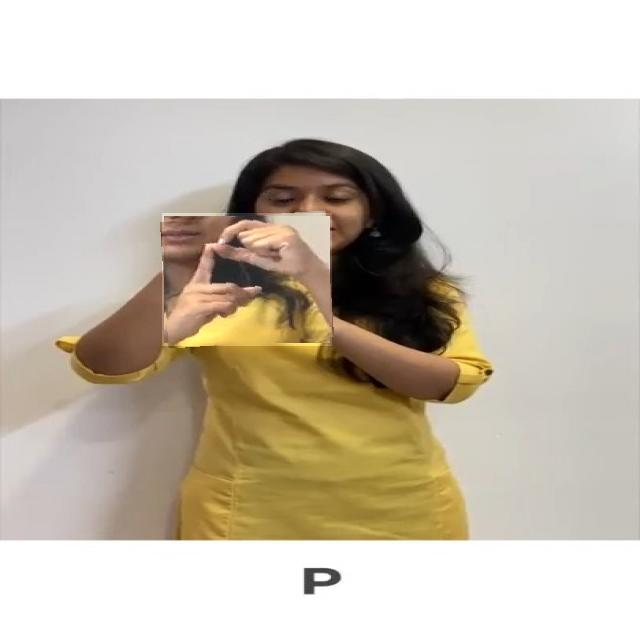P: (162, 213, 332, 346)
